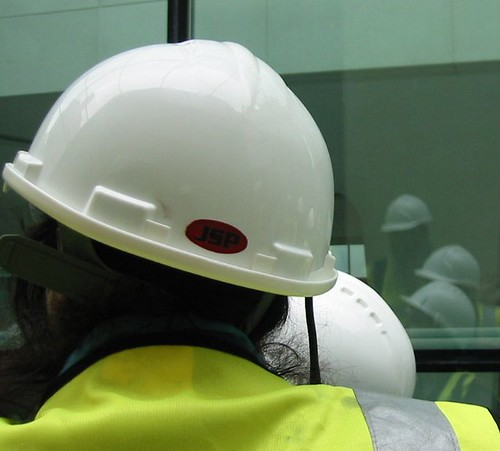person hardhat: (1, 37, 368, 451)
